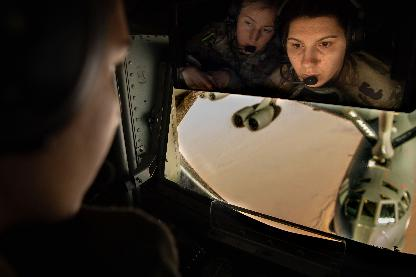B2: (198, 91, 416, 250)
